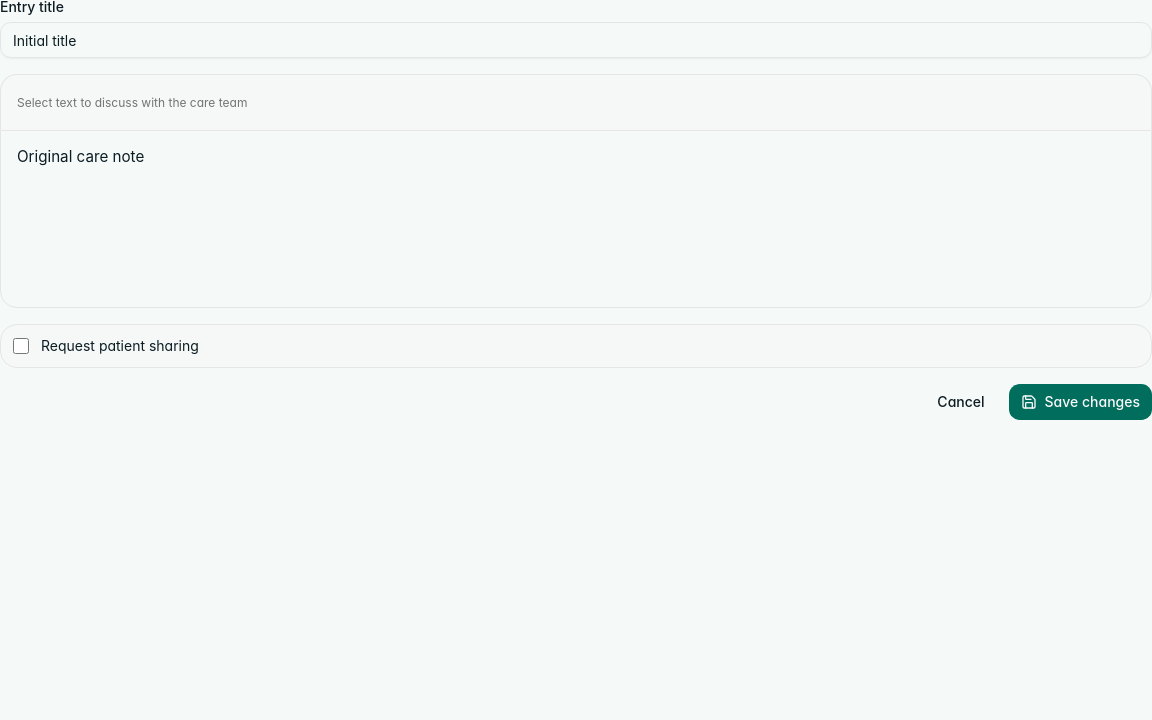
Test: EntryEditor optimistic concurrency › keeps the local draft visible after a deterministic 409
Replace the text in the field labelled "Entry title" with "My unsaved clinical draft" at (576, 40), box 0,22 -> 1151,58
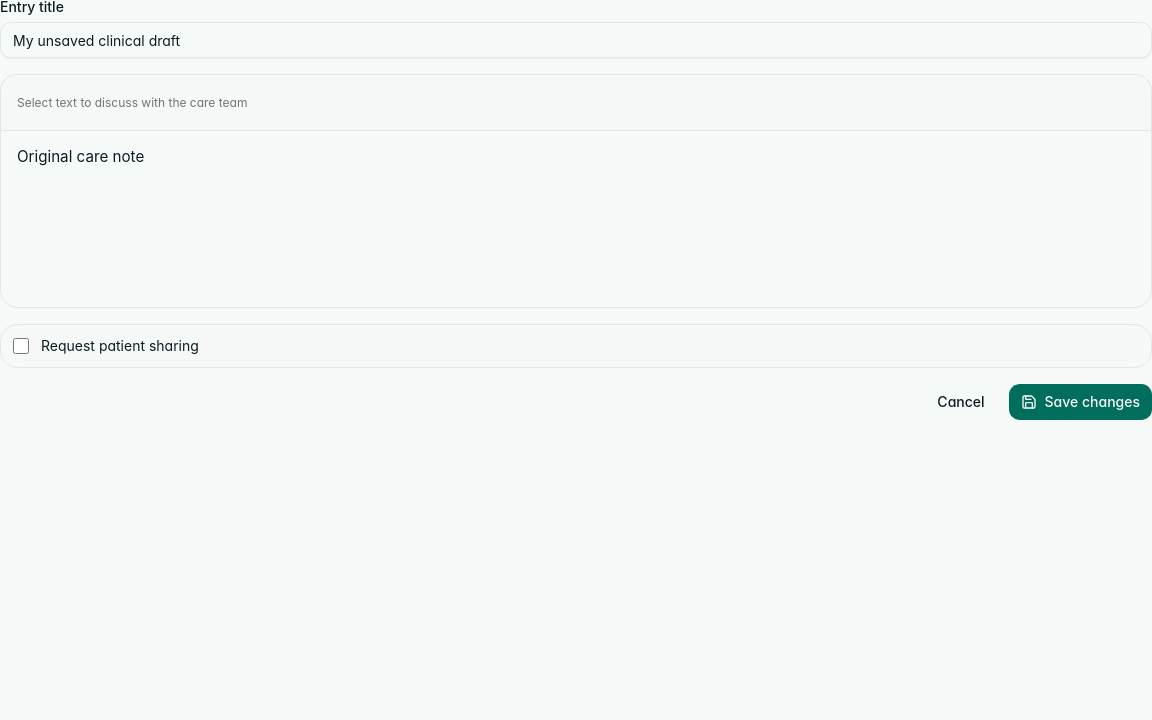
Click the button "Save changes" at (1080, 402), box 1008,384 -> 1151,420
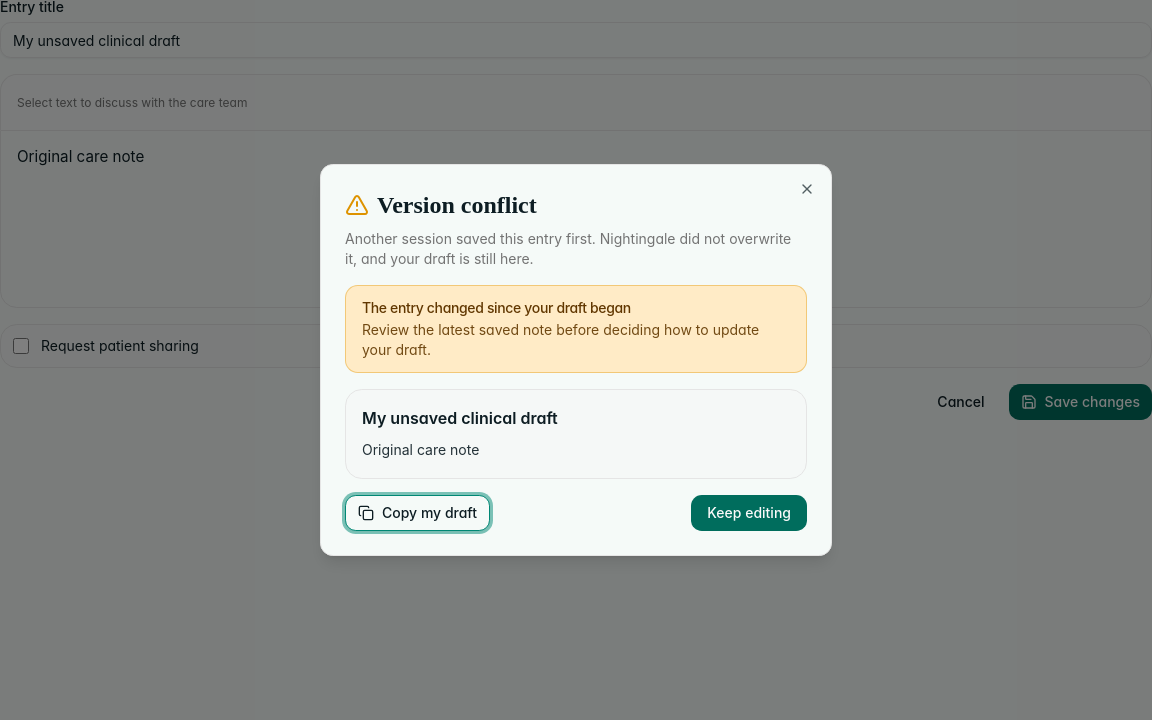
expect the dialog shows "Version conflict": met, box 377,192 -> 537,218
expect the dialog shows "My unsaved clinical draft": met, box 362,408 -> 558,428
